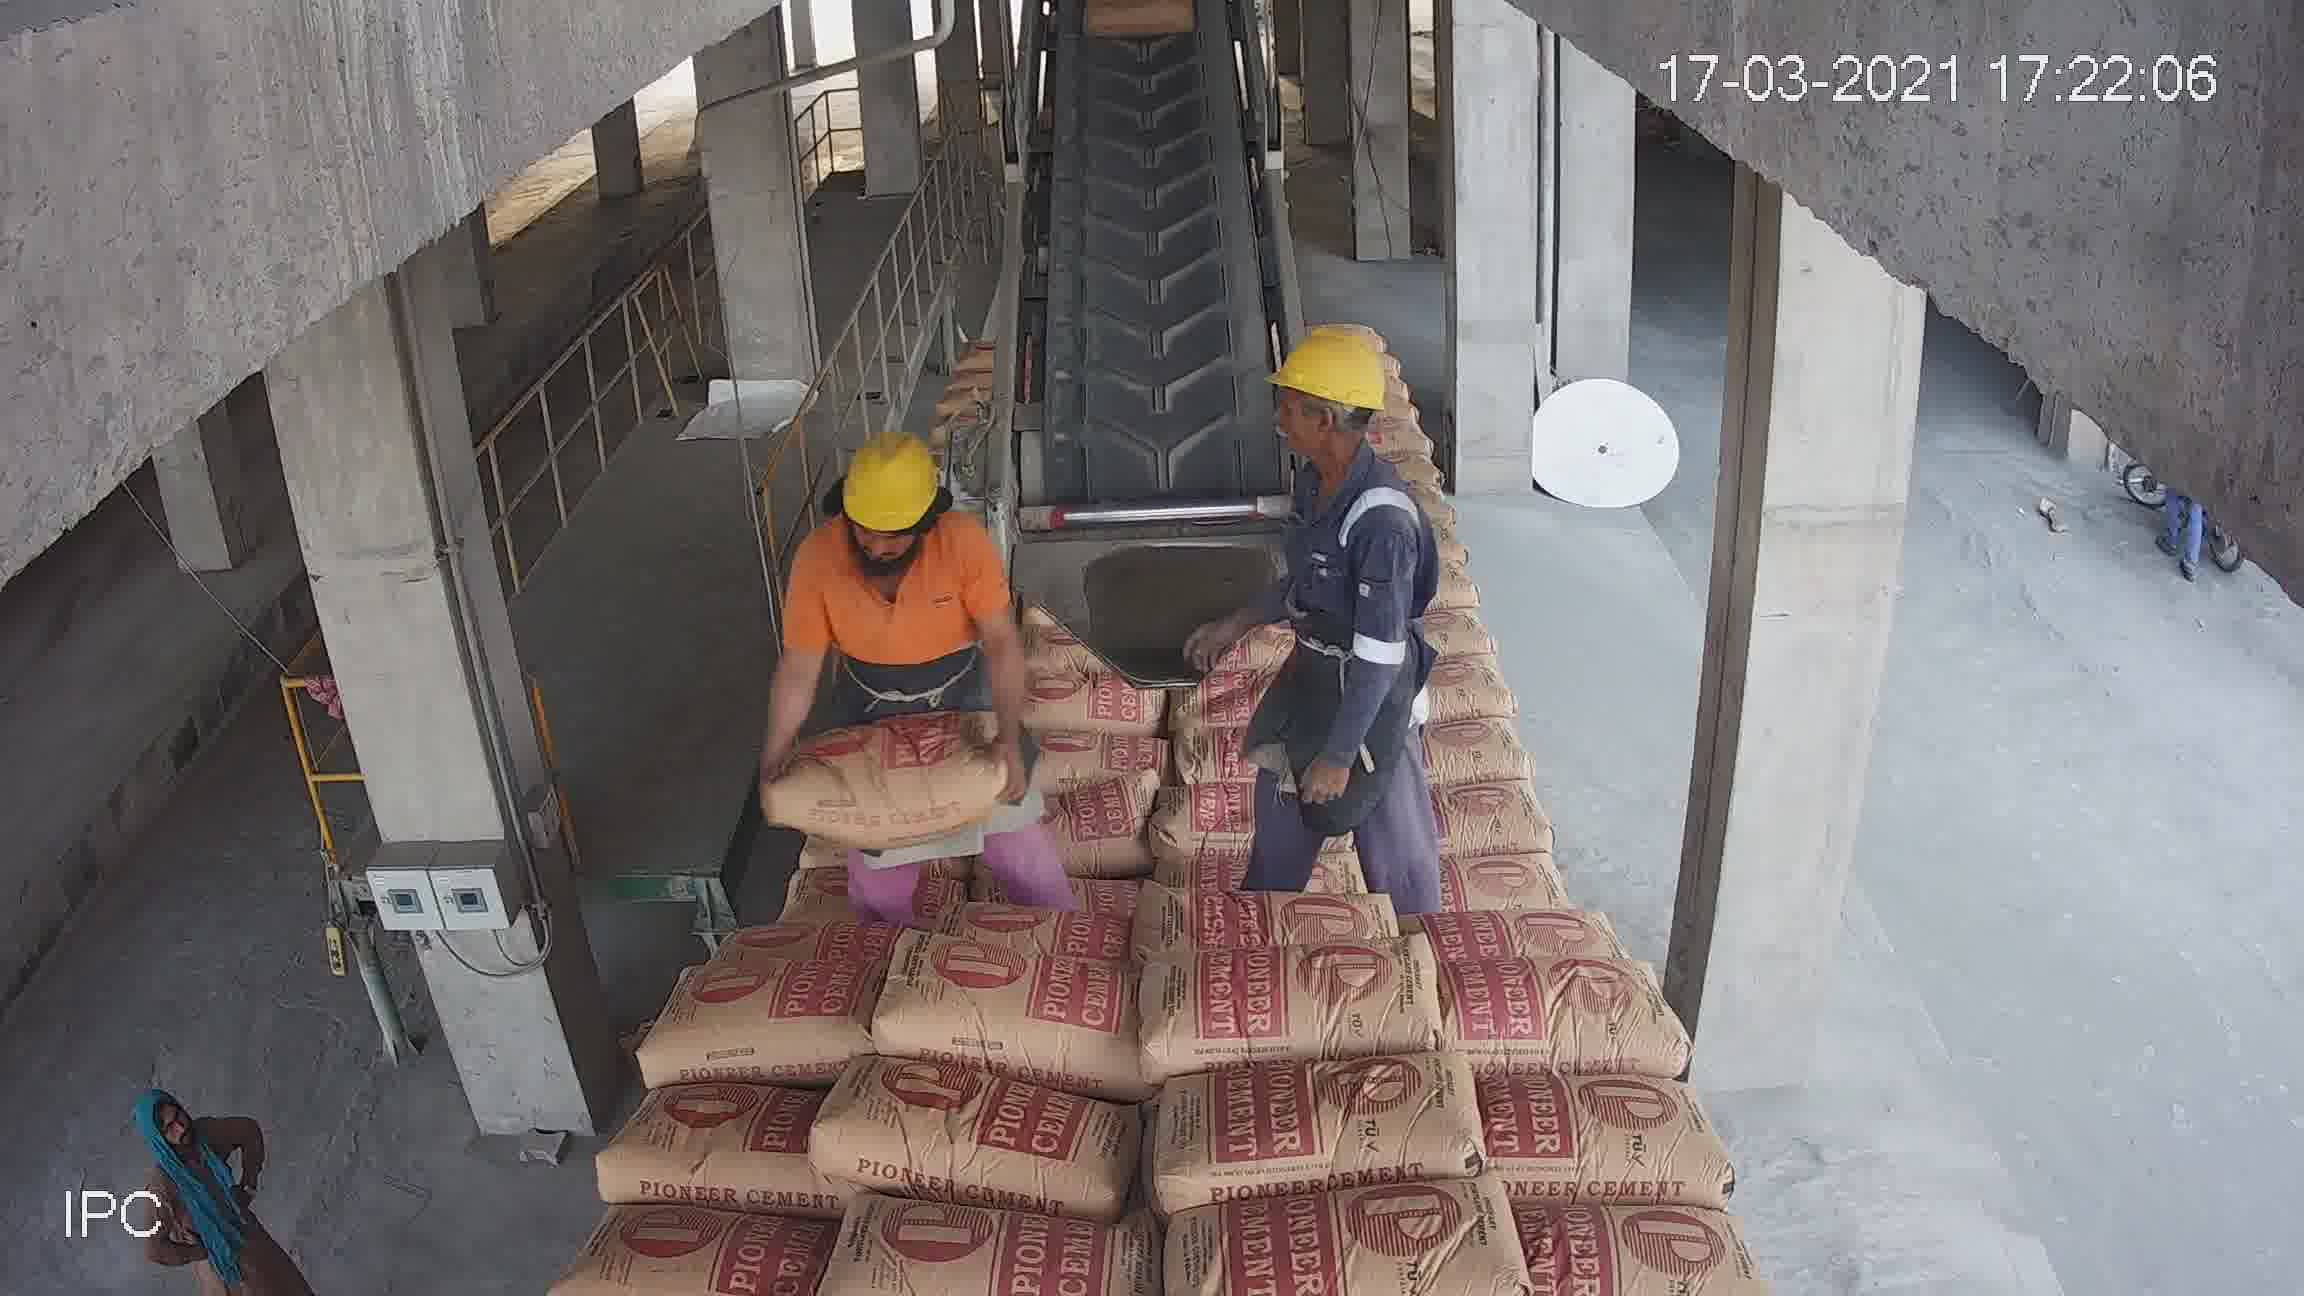bag_h: (1120, 1048, 1492, 1207), (1146, 1169, 1546, 1296), (1109, 937, 1456, 1068), (801, 1065, 1139, 1196), (1109, 729, 1393, 859), (870, 943, 1146, 1074), (646, 946, 892, 1092), (574, 1067, 836, 1203), (813, 1192, 1143, 1296), (1487, 1065, 1742, 1199), (1147, 839, 1424, 956), (869, 855, 1146, 957), (1427, 962, 1688, 1068), (877, 764, 1144, 855), (1381, 755, 1609, 858), (711, 772, 911, 885), (1521, 1185, 1769, 1274), (748, 684, 973, 780), (1393, 870, 1647, 948), (668, 864, 880, 956), (559, 1204, 791, 1283), (1006, 574, 1179, 638), (999, 658, 1171, 718), (999, 604, 1161, 665), (1383, 646, 1505, 718), (1032, 530, 1174, 587), (995, 725, 1125, 780), (1173, 517, 1279, 574)
belt: (1021, 47, 1287, 513)
